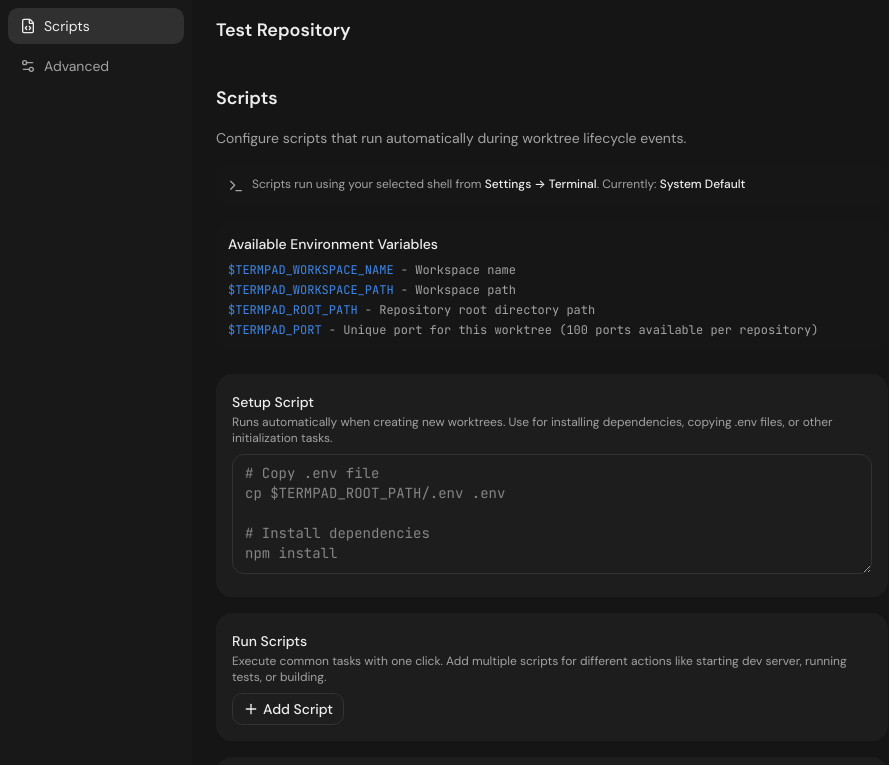
Test case: RepositorySettingsOverlay › rendering › renders nonconcurrent mode checkbox in Advanced tab
The image size is (889, 765).
Note: Click Advanced tab
What coordinates should you click on to do the following:
click the button "Advanced"
I would click on:
 (96, 66)
Its box is [8,48,184,84].
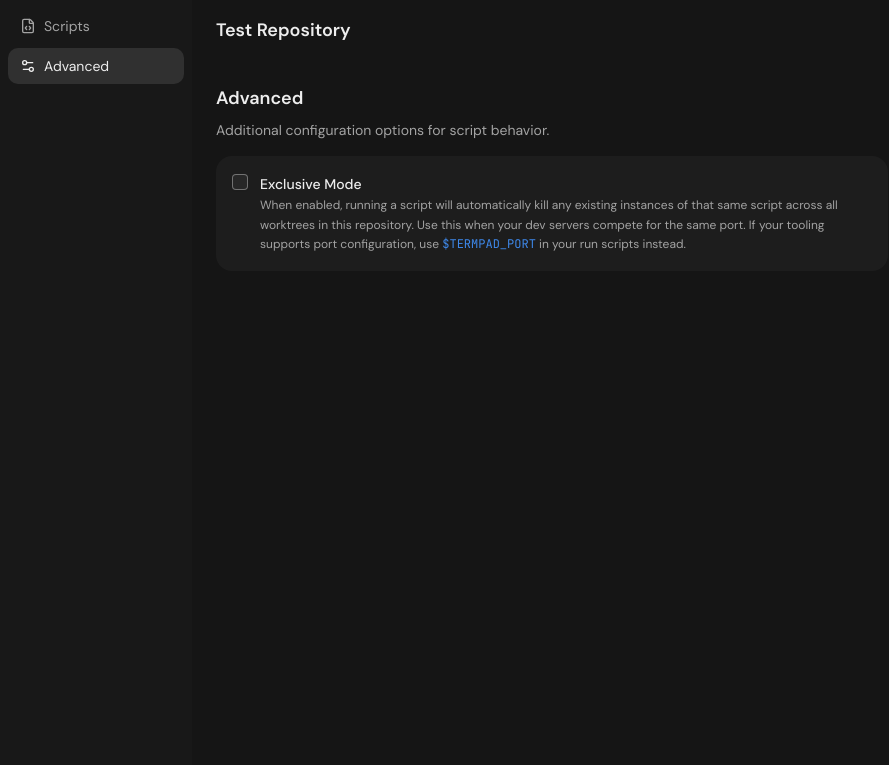
Expected: the text "Exclusive Mode" is shown, [260,175,362,193]
Expected: the checkbox with test id "exclusive-mode-checkbox" is shown, [232,174,248,190]
